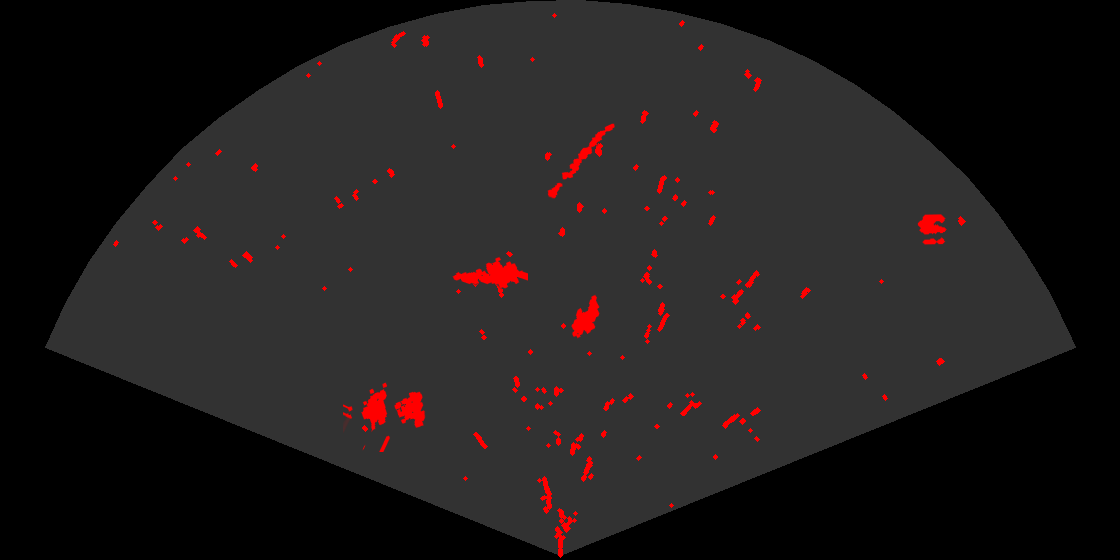AUV: (570, 293, 601, 340)
ball: (916, 213, 948, 246)
cage: (343, 381, 427, 452)
chain: (546, 122, 616, 200)
frogman: (451, 256, 528, 290)
